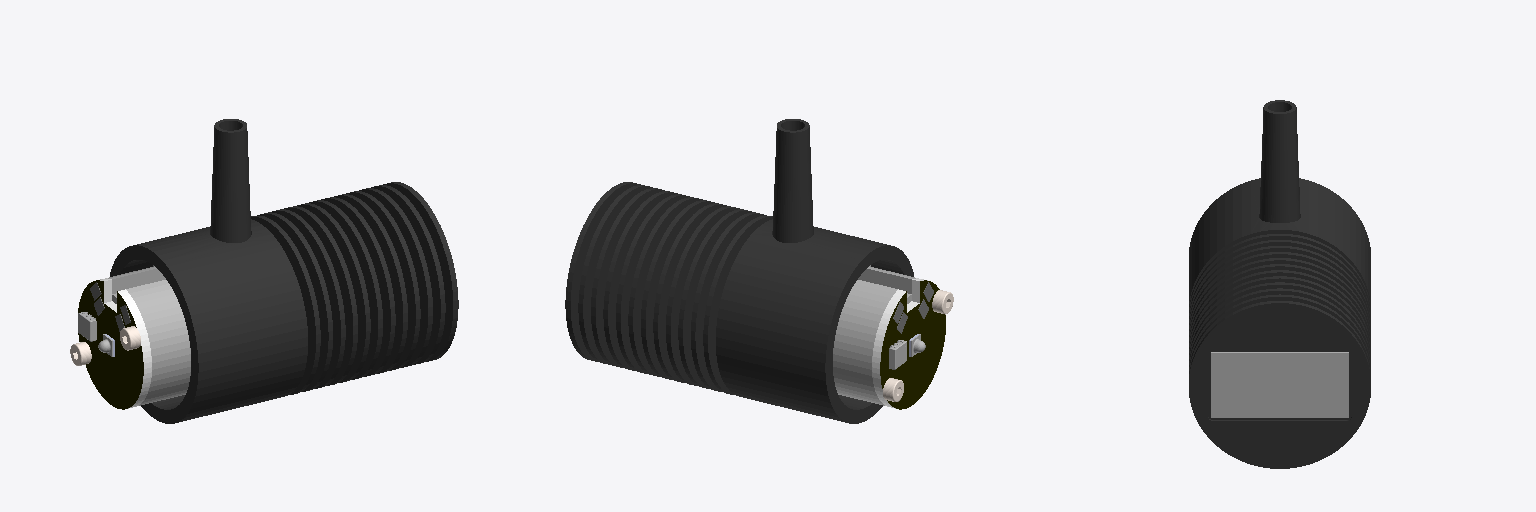
The model's file is LED.obj.
The picture shows the model from 3 angles: view 1: azimuth 30°, elevation 25°; view 2: azimuth 150°, elevation 25°; view 3: azimuth 270°, elevation 25°; orthographic projection.
Parts seen in each view (by area): view 1: mesh173, mesh73, mesh352, mesh341, mesh171, mesh200, mesh208, mesh192, mesh216, mesh184, mesh180, mesh204 (+19 smaller); view 2: mesh173, mesh73, mesh341, mesh352, mesh171, mesh200, mesh208, mesh192, mesh216, mesh184, mesh180, mesh220 (+19 smaller); view 3: mesh222, mesh258, mesh173, mesh341, mesh223, mesh178, mesh174, mesh218, mesh182, mesh190, mesh194, mesh186 (+5 smaller).
Part boxes in pixels (left/top/right/bottom): mesh173: left=137, top=219, right=307, bottom=422; mesh73: left=108, top=266, right=190, bottom=405; mesh352: left=78, top=280, right=143, bottom=409; mesh341: left=210, top=127, right=250, bottom=242; mesh171: left=110, top=245, right=198, bottom=423; mesh200: left=321, top=198, right=390, bottom=376; mesh208: left=346, top=192, right=415, bottom=370; mesh192: left=297, top=204, right=365, bottom=382; mesh216: left=371, top=186, right=440, bottom=364; mesh184: left=272, top=211, right=340, bottom=388; mesh180: left=257, top=214, right=328, bottom=391; mesh204: left=334, top=195, right=402, bottom=373; mesh173: left=716, top=219, right=886, bottom=422; mesh73: left=833, top=266, right=915, bottom=405; mesh341: left=773, top=127, right=813, bottom=242; mesh352: left=880, top=280, right=945, bottom=409; mesh171: left=825, top=245, right=913, bottom=423; mesh200: left=633, top=198, right=702, bottom=376; mesh208: left=608, top=192, right=677, bottom=370; mesh192: left=658, top=204, right=726, bottom=382; mesh216: left=583, top=186, right=652, bottom=364; mesh184: left=683, top=211, right=751, bottom=388; mesh180: left=695, top=214, right=766, bottom=391; mesh220: left=571, top=183, right=640, bottom=361; mesh222: left=1189, top=303, right=1370, bottom=468; mesh258: left=1211, top=353, right=1348, bottom=417; mesh173: left=1189, top=178, right=1370, bottom=300; mesh341: left=1259, top=107, right=1300, bottom=222; mesh223: left=1208, top=351, right=1351, bottom=419; mesh178: left=1189, top=236, right=1370, bottom=309; mesh174: left=1189, top=230, right=1370, bottom=303; mesh218: left=1189, top=297, right=1370, bottom=370; mesh182: left=1189, top=242, right=1370, bottom=315; mesh190: left=1189, top=254, right=1370, bottom=328; mesh194: left=1189, top=260, right=1370, bottom=334; mesh186: left=1189, top=248, right=1370, bottom=322.
Size of the model in its own units: 0.0603 by 0.0502 by 0.0305.